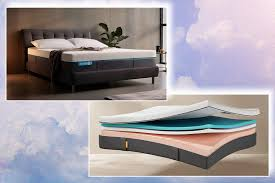bed-matress: (98, 102, 256, 169), (25, 47, 158, 71)
